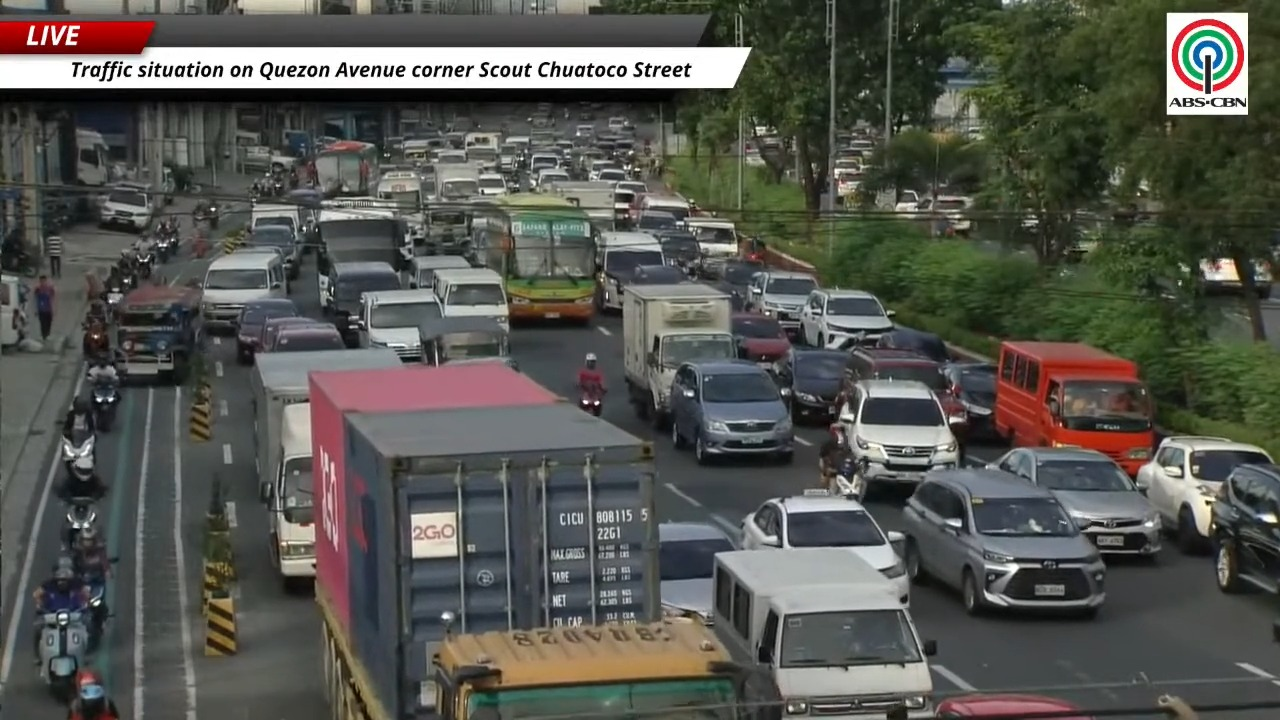bus: (473, 194, 597, 323), (313, 140, 380, 197), (377, 170, 426, 213)
car: (903, 468, 1106, 617), (741, 489, 908, 604), (988, 448, 1161, 558), (1135, 435, 1273, 553), (838, 380, 961, 489), (669, 360, 793, 464), (846, 347, 966, 430), (1212, 463, 1279, 594), (658, 521, 737, 623), (800, 289, 894, 348), (773, 348, 846, 421), (745, 270, 817, 333), (235, 298, 299, 363), (936, 693, 1094, 719), (944, 362, 997, 438), (240, 224, 300, 279), (731, 313, 790, 367), (876, 326, 950, 362), (714, 258, 764, 311), (99, 185, 153, 233), (257, 316, 326, 351), (263, 324, 346, 352), (651, 230, 700, 267), (626, 266, 687, 284), (635, 210, 678, 231)
motorcycle: (39, 610, 88, 703), (83, 575, 108, 651), (62, 497, 97, 547), (828, 455, 866, 500), (61, 430, 95, 476), (92, 379, 120, 432), (82, 325, 109, 358), (104, 284, 125, 317), (193, 203, 219, 229), (579, 390, 603, 417), (153, 234, 175, 263), (137, 250, 154, 278), (122, 266, 137, 292), (271, 178, 286, 196), (249, 185, 260, 201)
truck: (311, 364, 659, 719), (250, 348, 402, 590), (434, 619, 784, 719), (250, 348, 402, 486), (621, 283, 737, 428), (550, 181, 615, 230), (434, 163, 479, 202)
